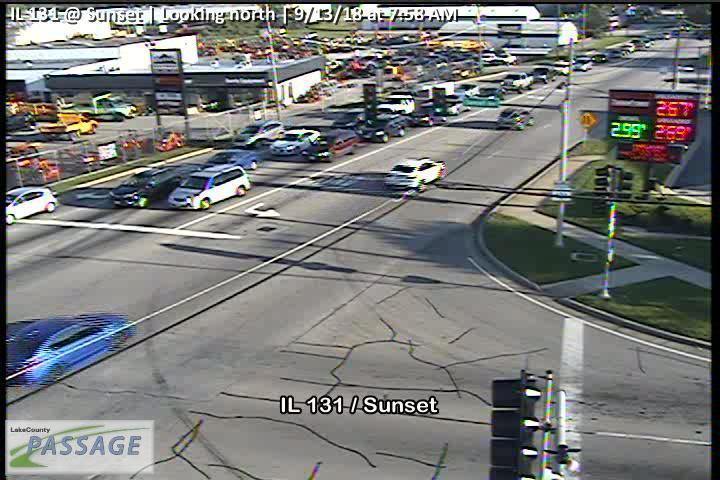SUV: (169, 164, 252, 212), (109, 166, 181, 209), (5, 187, 59, 224), (300, 129, 359, 162), (231, 119, 285, 150), (495, 108, 535, 131), (404, 107, 448, 127), (532, 67, 552, 84), (572, 56, 593, 72)
Sedan: (8, 313, 136, 386), (382, 156, 446, 191), (270, 128, 321, 156), (551, 60, 574, 76)
Truck: (39, 112, 98, 142), (356, 113, 407, 143), (376, 93, 415, 114), (500, 72, 534, 94)
